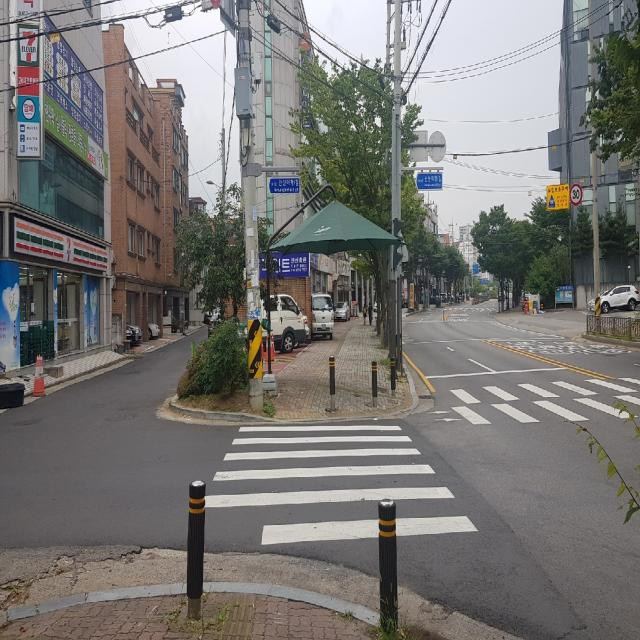횡단보도: (204, 426, 479, 545), (430, 382, 640, 417)
